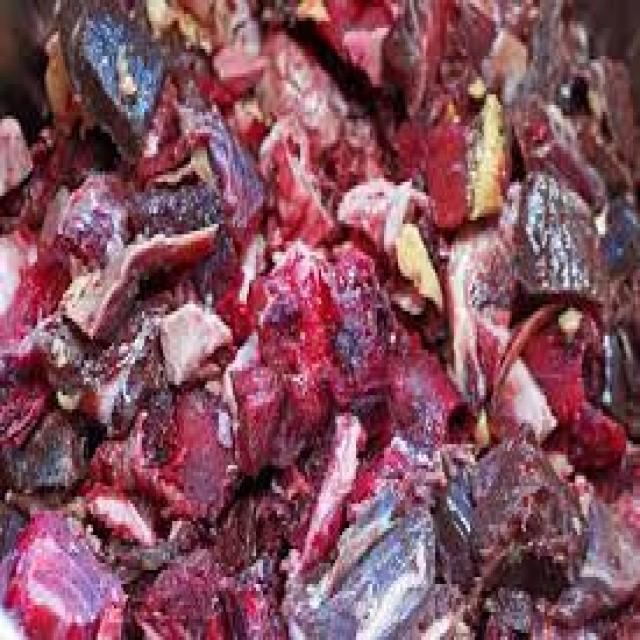Wet: (1, 4, 640, 640), (36, 3, 186, 166)
